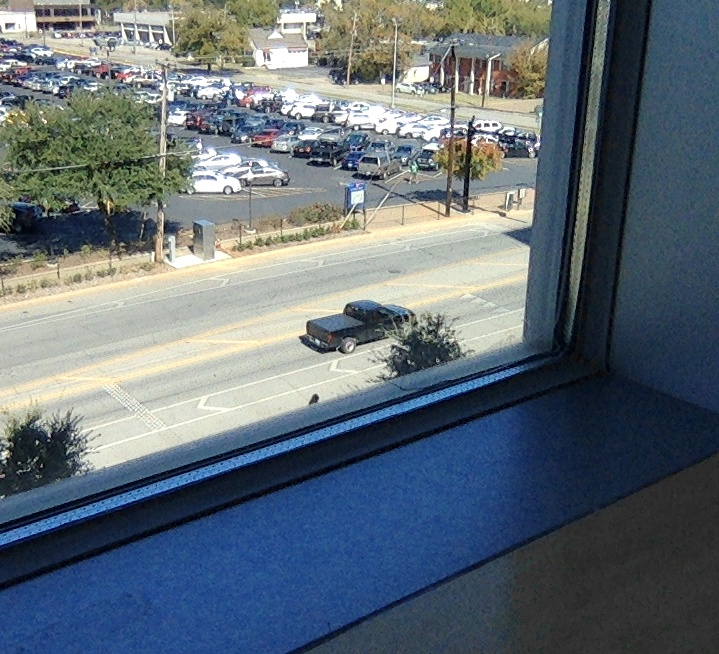car: (300, 300, 419, 354)
